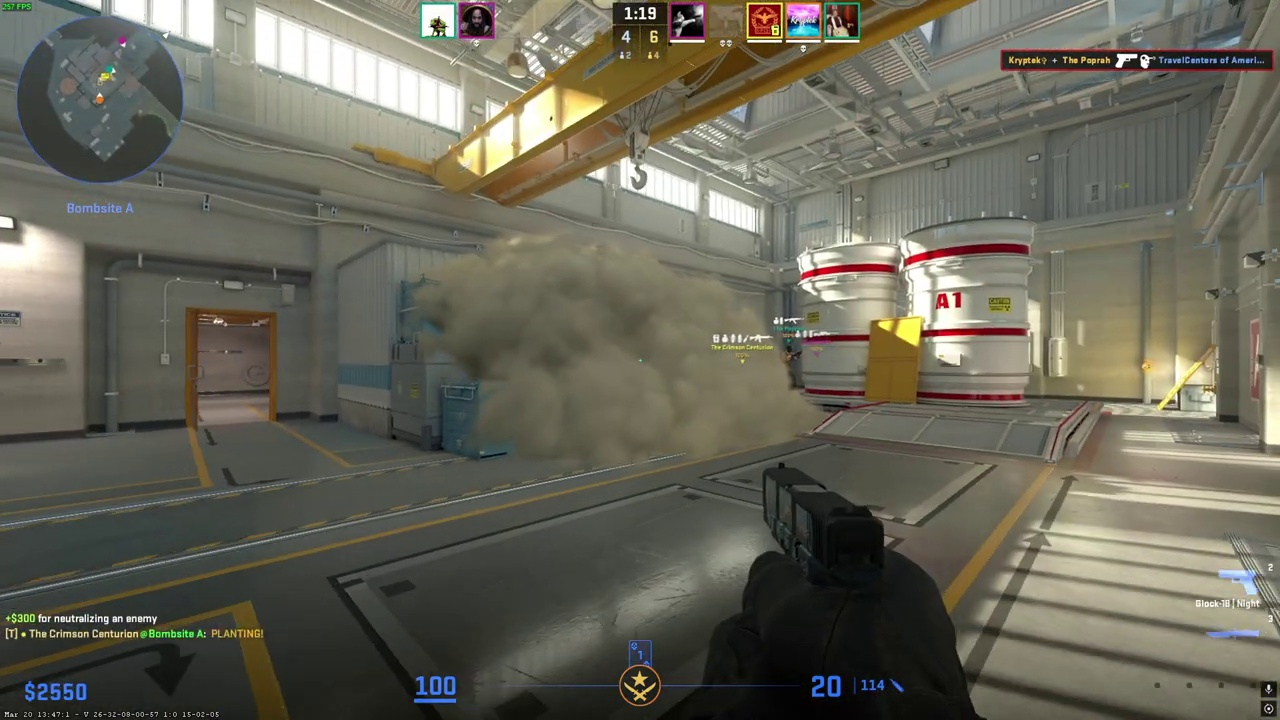Terrorist: (780, 345, 800, 390)
